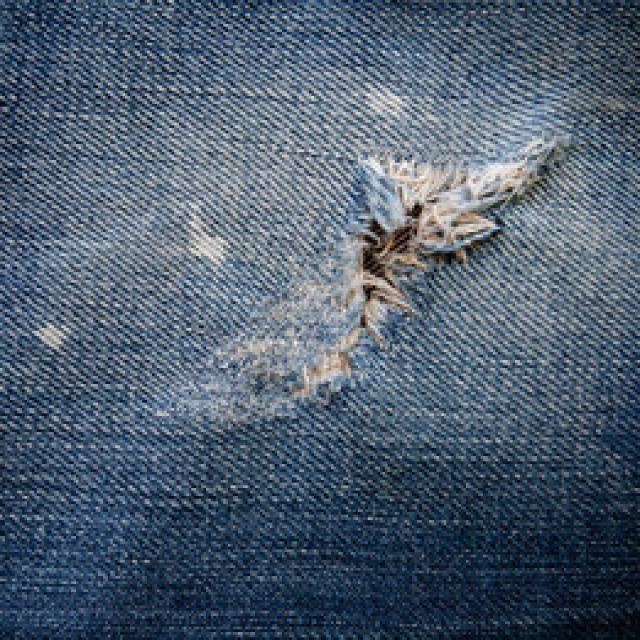Hole: (203, 129, 571, 423)
